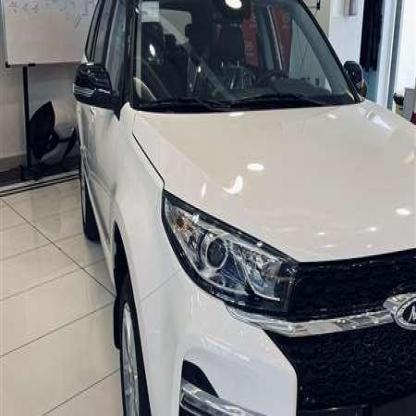Car: (58, 0, 416, 416)
